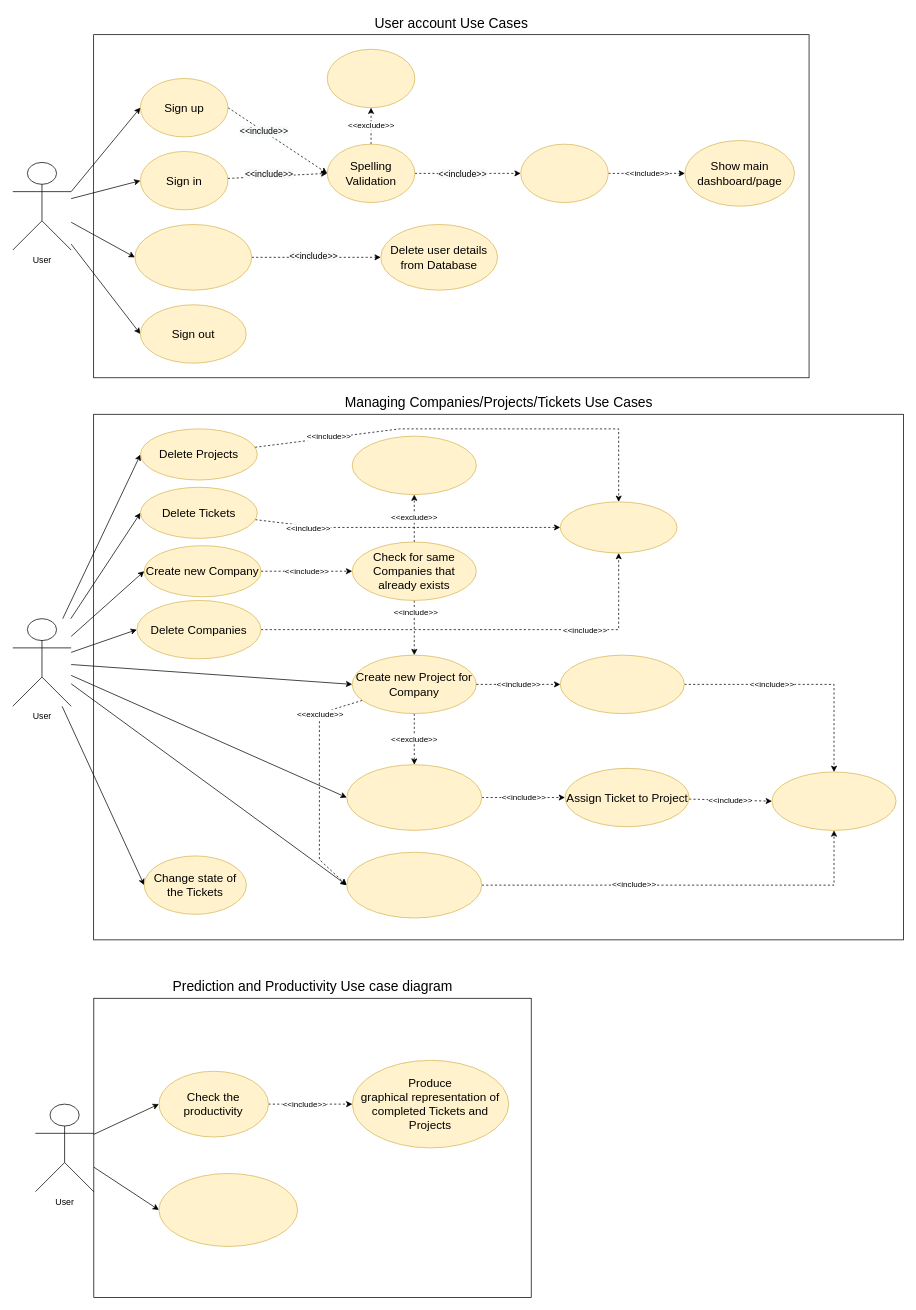
Some shapes in this 916 by 1310 pixel diagram are drawn without their labels. Here are the shapes that lost their labels. From the top down, the centre of each, then its label:
At [371,78]: "Show spelling error".
At [564,173]: "Check Identity".
At [193,257]: "Delete account".
At [413,465]: "Select existing Company".
At [618,527]: "Delete all assigned Data".
At [622,684]: "Assign Project to Company".
At [414,797]: "Create 1 or more new Tickets for the Project".
At [833,800]: "Save records into Database".
At [414,885]: "Assign user to the Ticket".
At [228,1209]: "Produce predictions for Projects and Tickets".
